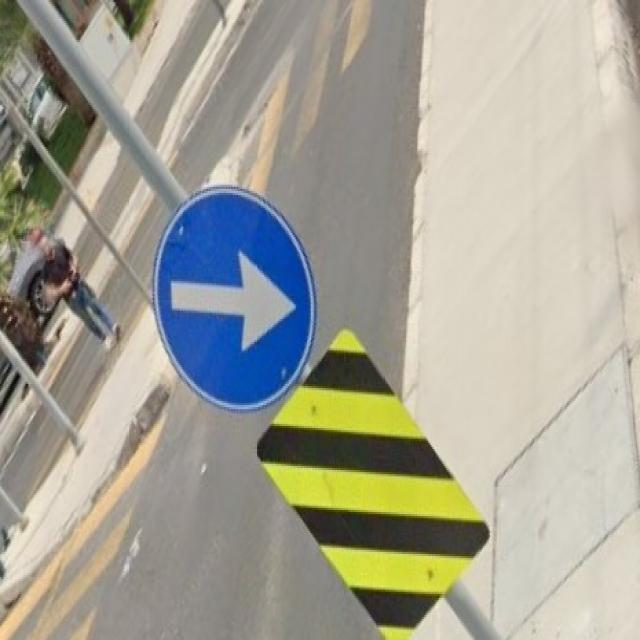Turn Right: (148, 198, 321, 400)
